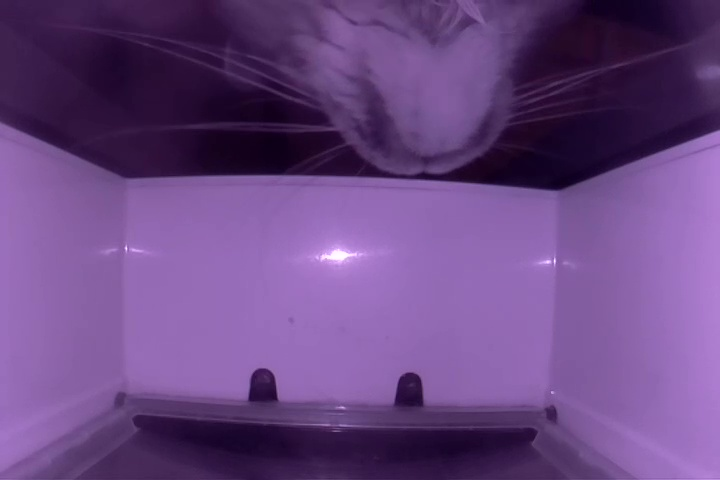Snout: (350, 77, 502, 178)
